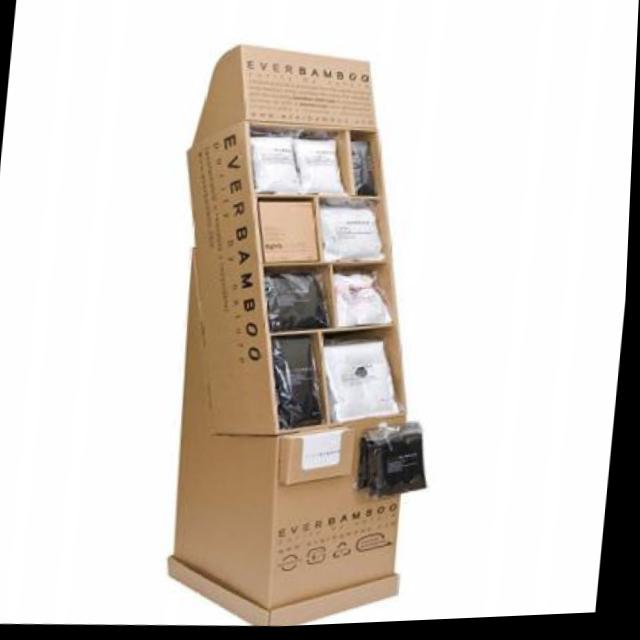box: (138, 26, 488, 634)
